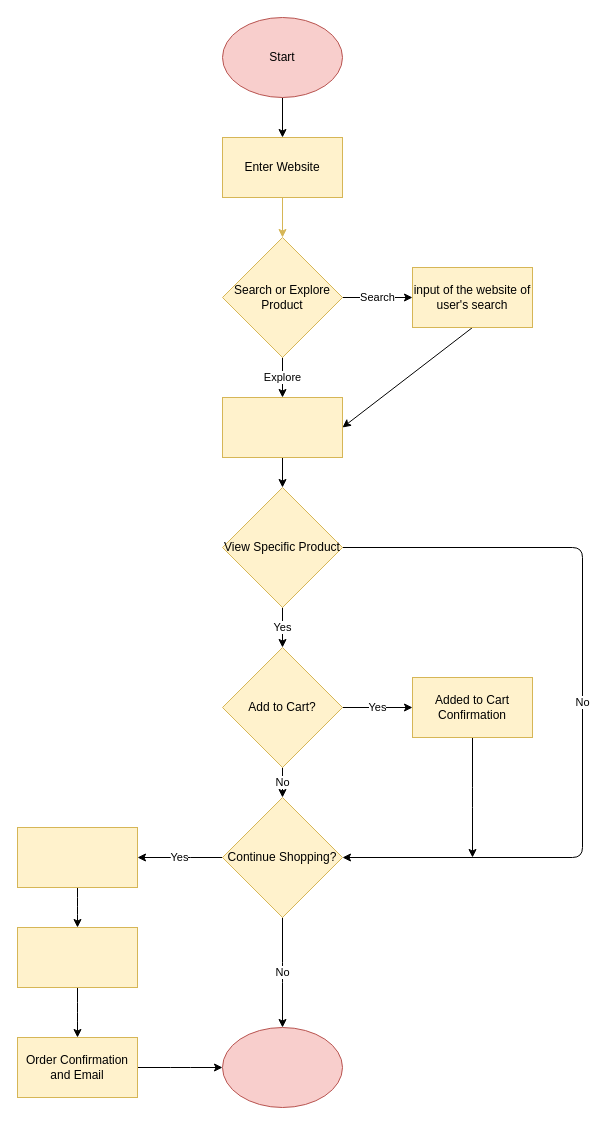
The diagram is 608 pixels wide and 1125 high, and some of its shapes have lost their labels. Each missing label, with the centre of its shape:
"End" goes at (282,1067).
"Looking over products" goes at (282,427).
"View Cart" goes at (77,857).
"View Payment" goes at (77,957).
